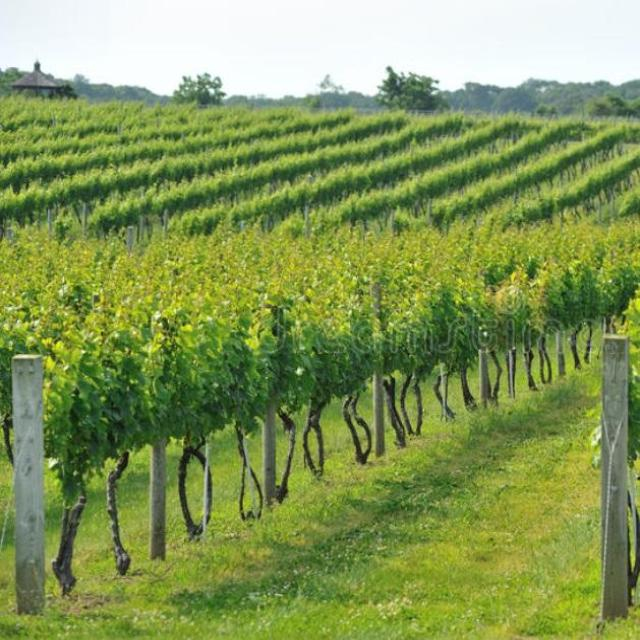row: (10, 367, 604, 638)
